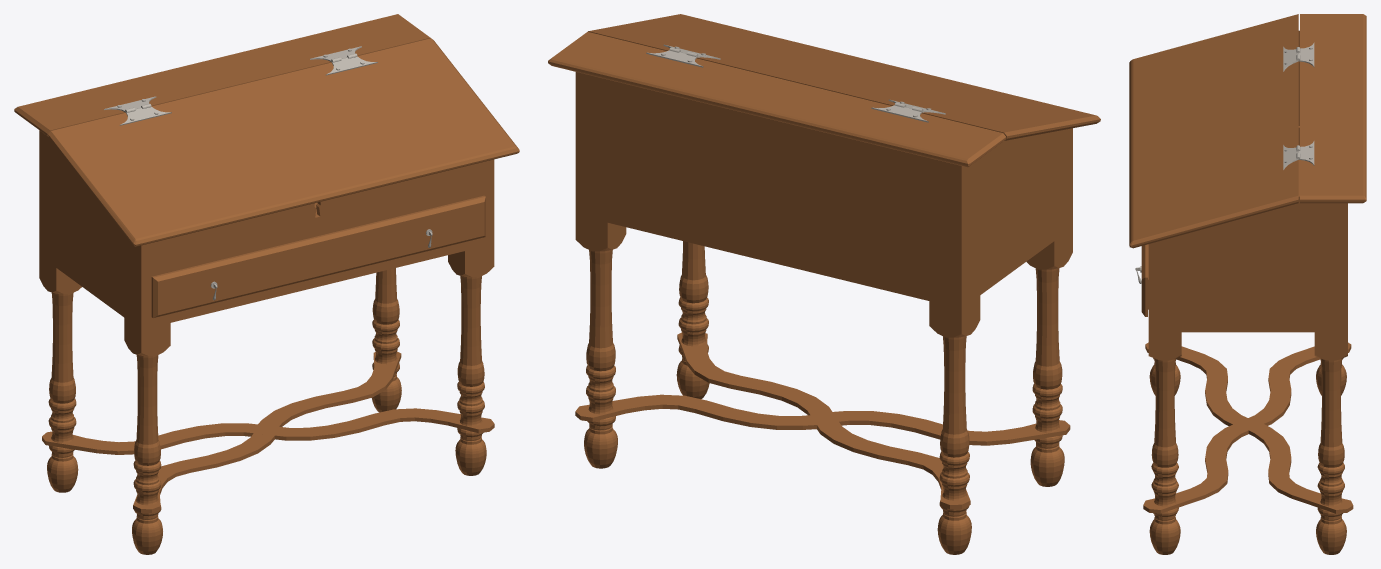
The model's file is desk-by-cmht-oculus-78E_8uFV0lq.glb.
3 renders of one model, left to right at view 1: azimuth 30°, elevation 25°; view 2: azimuth 150°, elevation 25°; view 3: azimuth 270°, elevation 25°, orthographic. The views are drawn at different scales.
Parts seen in each view (by area): view 1: Node; view 2: Node; view 3: Node.
Boxes of the visible parts, left/top/right/bottom form: Node: left=14, top=14, right=519, bottom=554; Node: left=548, top=14, right=1100, bottom=554; Node: left=1129, top=14, right=1366, bottom=554.
Size of the model in its own units: 32.07 by 30.18 by 17.43.
